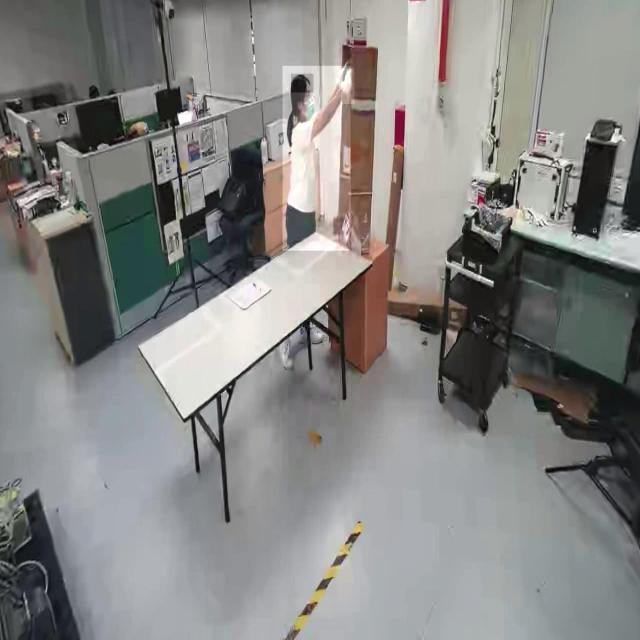face_mask: (300, 93, 316, 130)
hand_glove: (334, 58, 354, 90), (340, 68, 354, 105)
head_nohelmet: (290, 74, 314, 93)
person: (282, 65, 350, 252)
